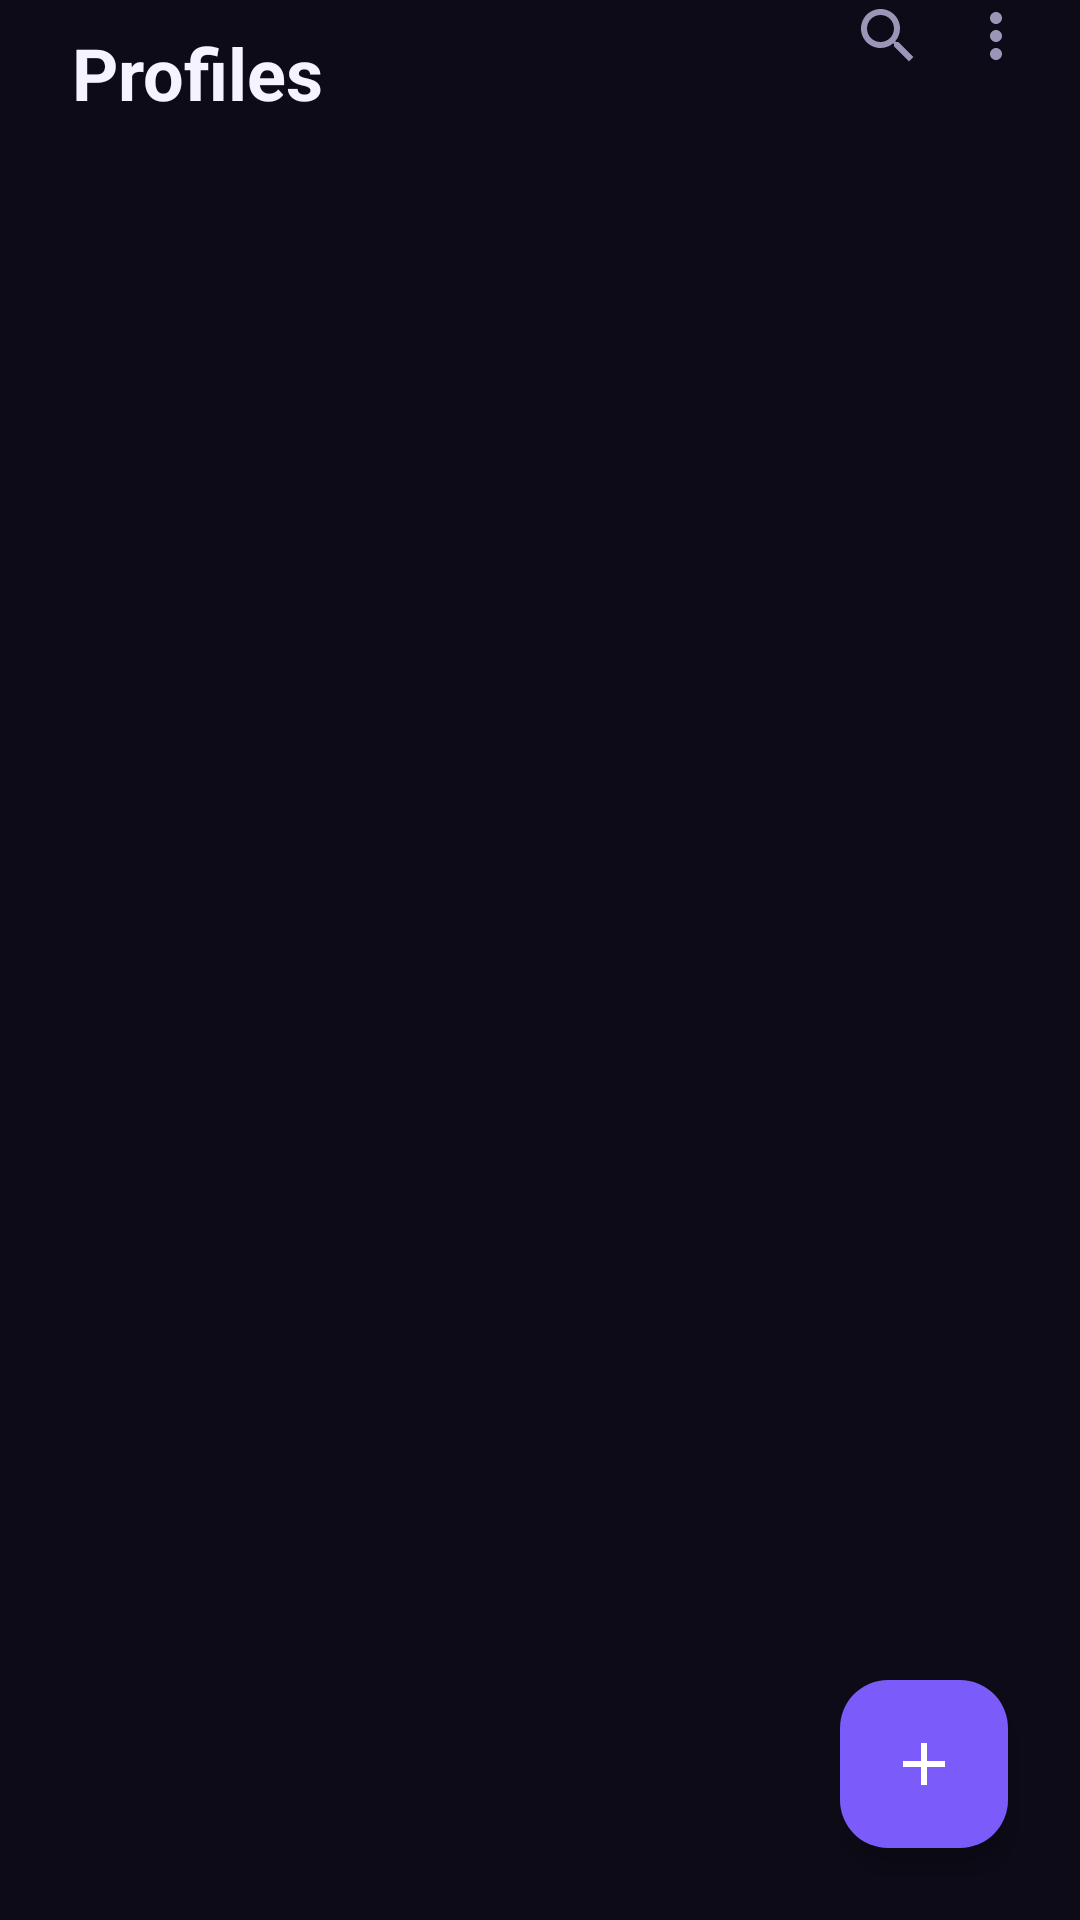

Point at icon controls on the screen. Image size 1080w x 1920h, points as point (x, y).
add: point (924, 1764)
More: point (996, 36)
